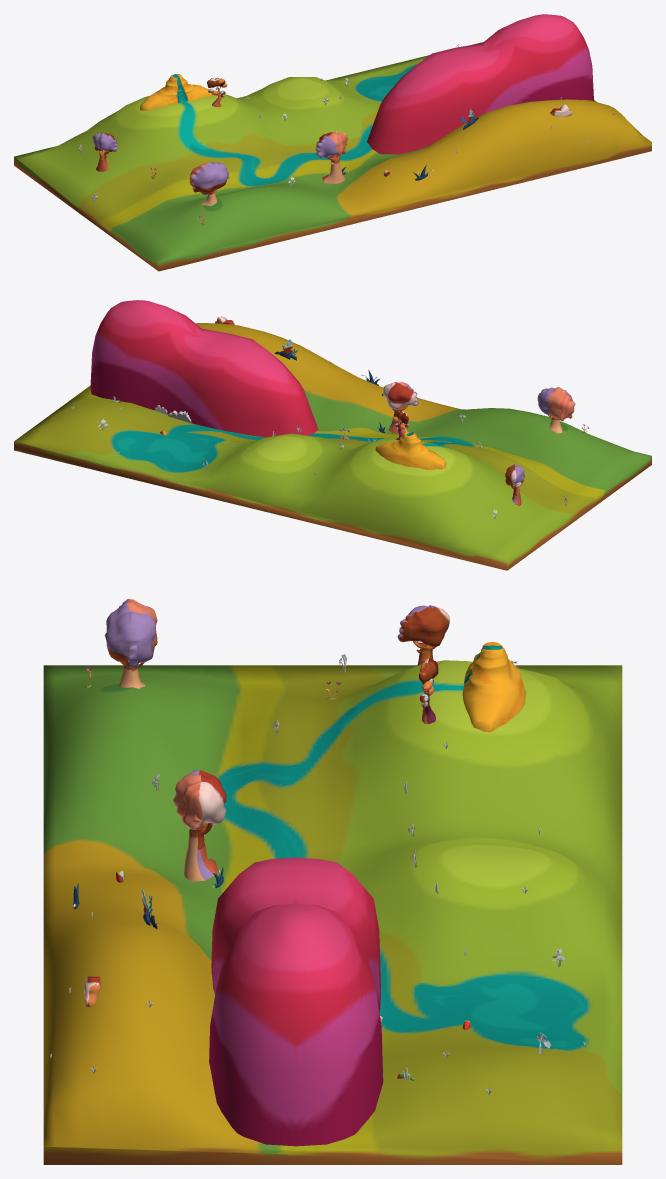
File: MDL_Pag 5 - 6.fbx
3 renders of one model, top to bottom at view 1: azimuth 30°, elevation 25°; view 2: azimuth 150°, elevation 25°; view 3: azimuth 270°, elevation 25°, orthographic. The views are drawn at different scales.
Visible parts, largest first — view 1: MDL_Piso_base_doble pag, MDL_Objetos_Atlas_2; view 2: MDL_Piso_base_doble pag, MDL_Objetos_Atlas_2, MDL_Objetos_Atlas; view 3: MDL_Piso_base_doble pag, MDL_Objetos_Atlas_2, MDL_Objetos_Atlas.
Boxes of the visible parts, bbox=[...] form: MDL_Piso_base_doble pag: bbox=[14, 14, 651, 271]; MDL_Objetos_Atlas_2: bbox=[92, 77, 571, 225]; MDL_Piso_base_doble pag: bbox=[14, 300, 651, 570]; MDL_Objetos_Atlas_2: bbox=[109, 316, 588, 505]; MDL_Objetos_Atlas: bbox=[71, 361, 567, 518]; MDL_Piso_base_doble pag: bbox=[43, 642, 622, 1164]; MDL_Objetos_Atlas_2: bbox=[73, 599, 470, 1080]; MDL_Objetos_Atlas: bbox=[50, 654, 586, 1094].
Bounding box in the file's own units: 6566 × 1268 × 3336.
